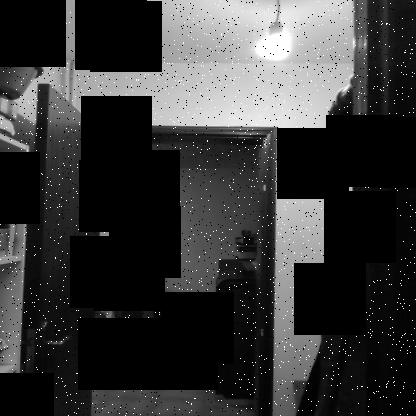Porte: (17, 82, 280, 416)
